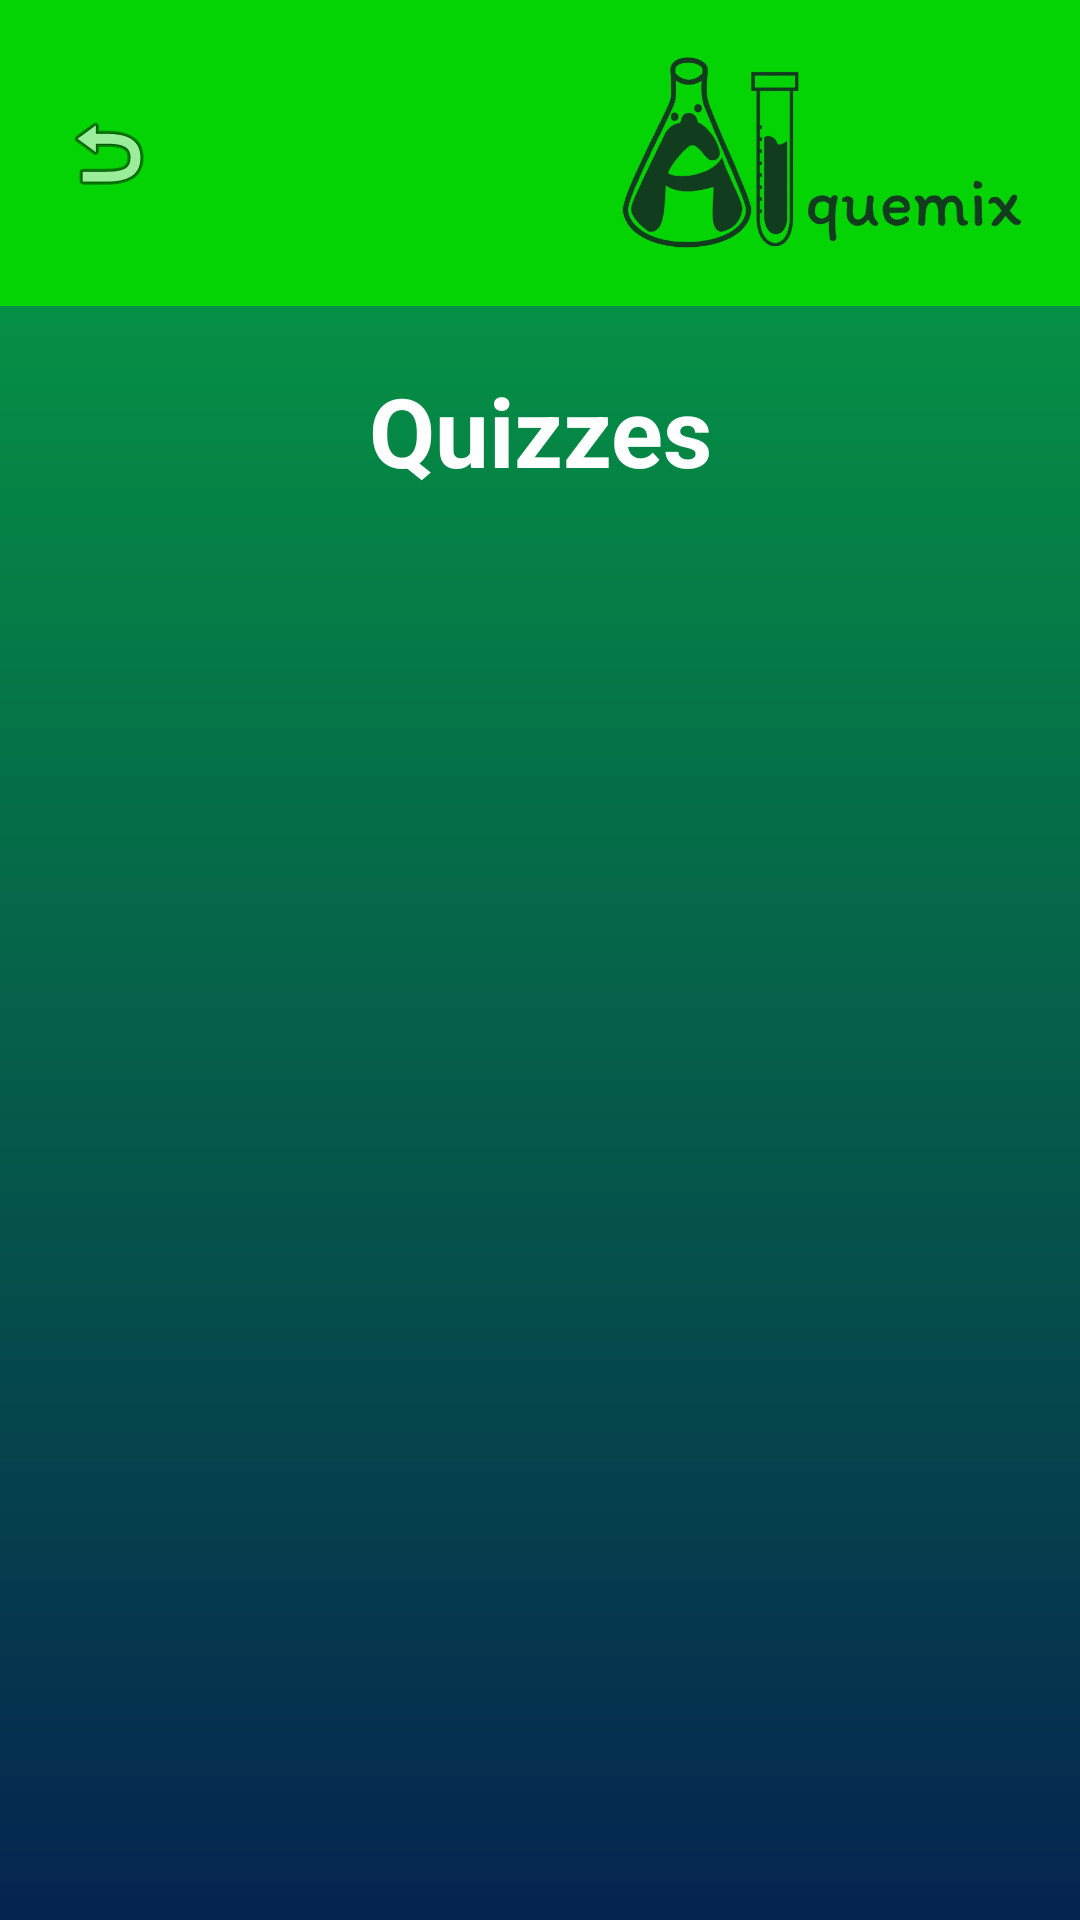

Icons on this 1080×1920 Android screen, each with its box as (x1, y1, x2, y2):
Volver: (75, 122, 144, 185)
